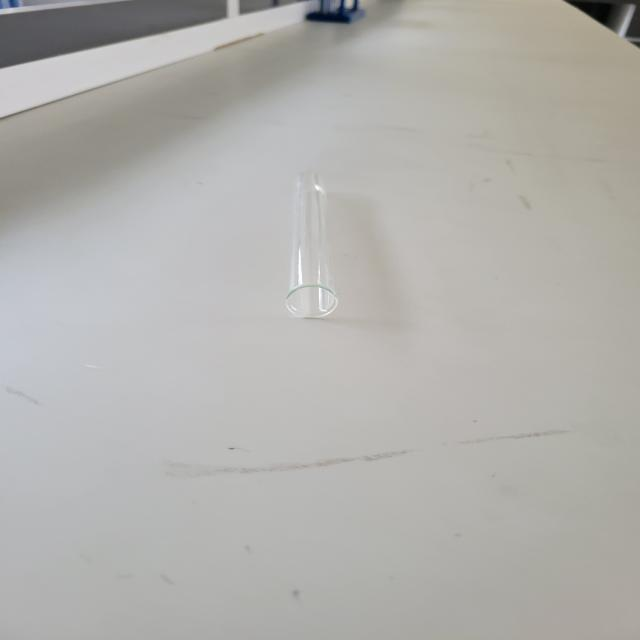Test_Tube: (216, 123, 384, 348)
